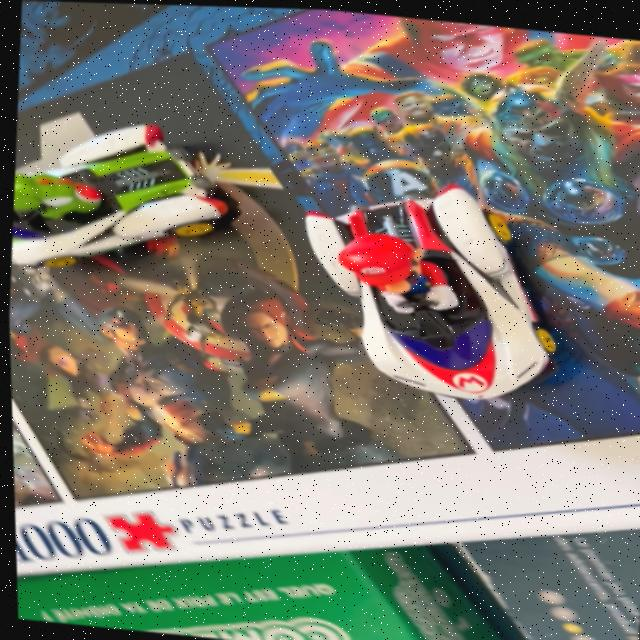mario: (276, 161, 592, 417)
yoshi: (4, 74, 252, 298)
